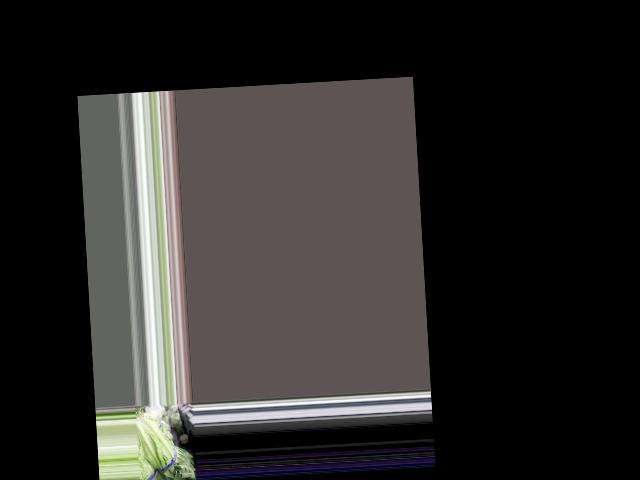lettuce: (135, 418, 191, 480)
